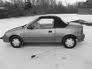car: (2, 17, 88, 56)
